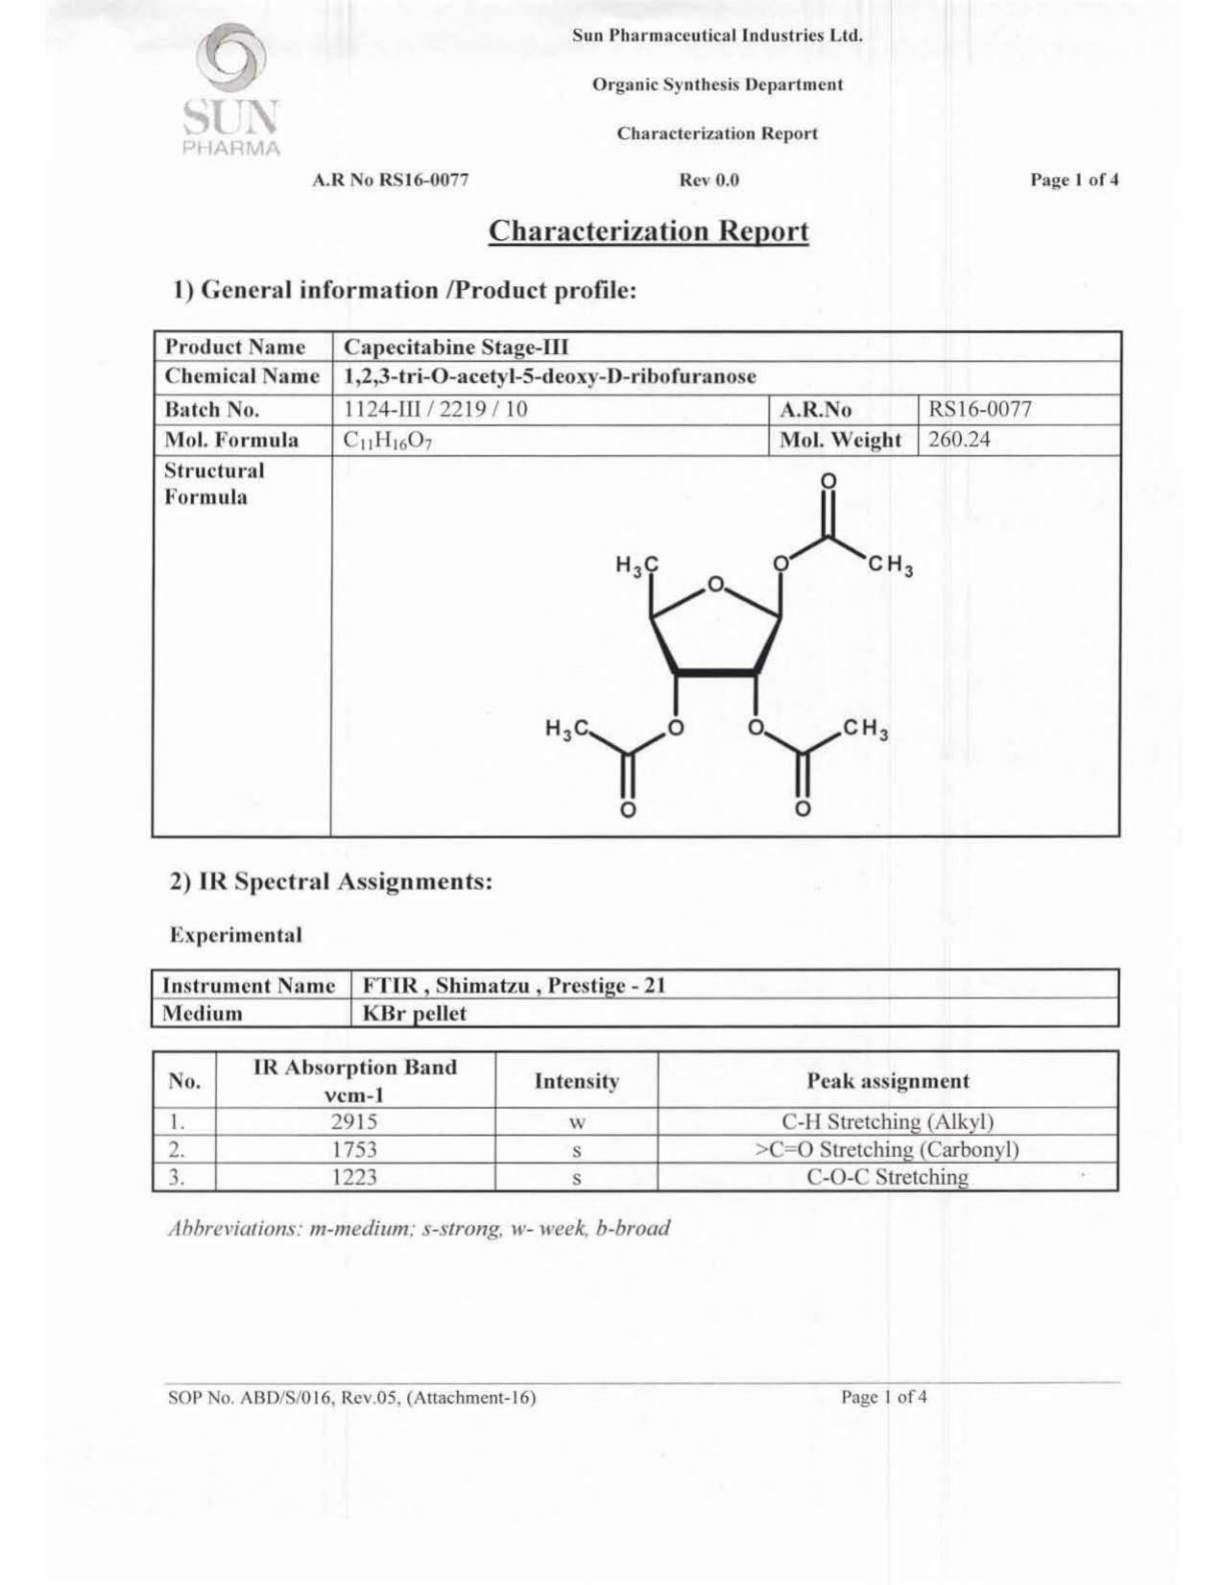full_lined: (150, 1048, 1121, 1194), (149, 967, 1122, 1028)
merged_cells: (150, 327, 1122, 839)
